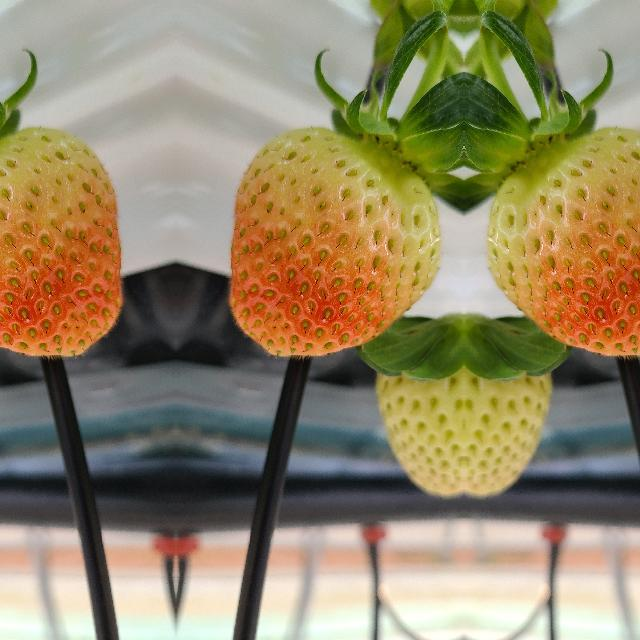Health_25: (378, 317, 462, 497), (464, 317, 548, 497)
Health_50: (224, 126, 442, 360), (484, 126, 640, 360), (0, 126, 125, 360)
